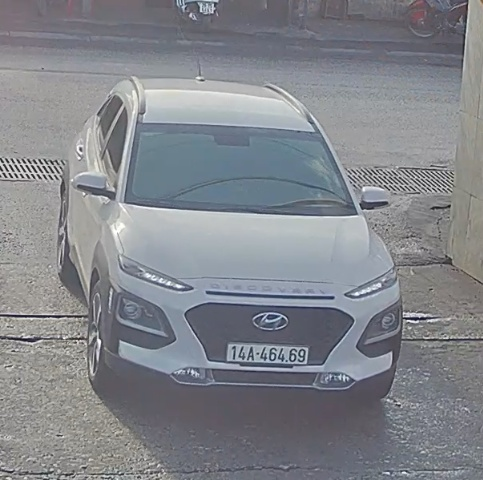vehicle plate: (221, 337, 313, 367)
